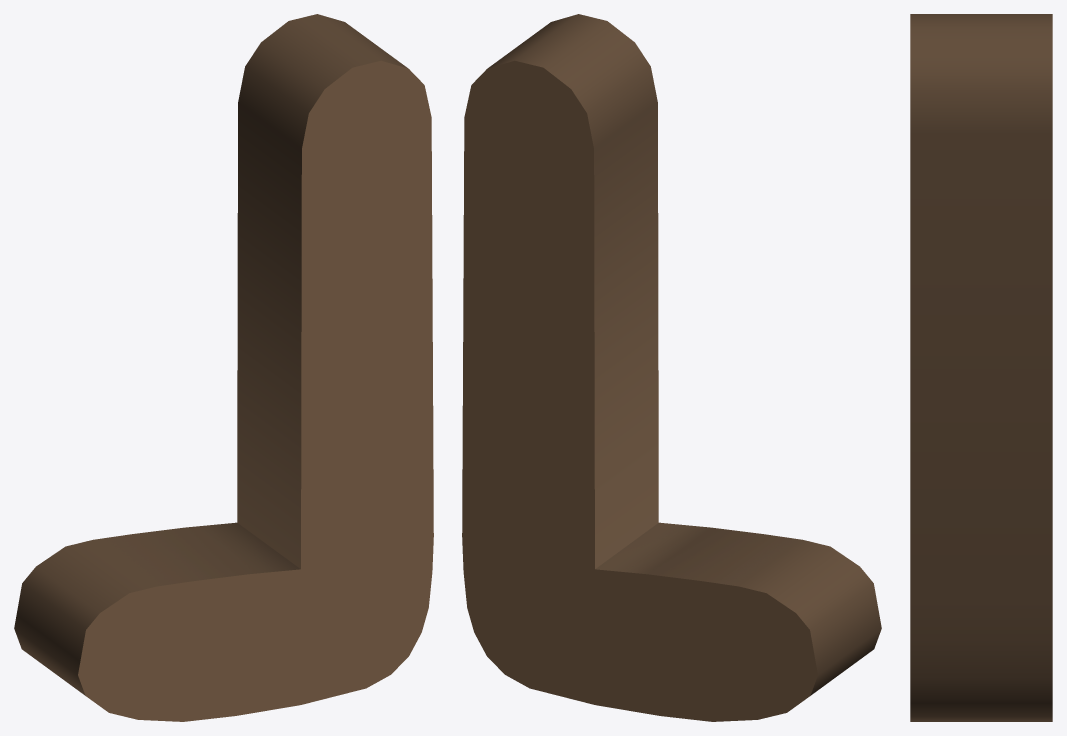
Rendered from TXL0110012.fbx.
3 views of the same model, side by side, from view 1: azimuth 30°, elevation 25°; view 2: azimuth 150°, elevation 25°; view 3: azimuth 270°, elevation 25° (orthographic). The views are drawn at different scales.
Parts seen in each view (by area): view 1: smTXL0110012; view 2: smTXL0110012; view 3: smTXL0110012.
Boxes of the visible parts, x1,y1,x2,y2 form: smTXL0110012: [14, 14, 433, 721]; smTXL0110012: [462, 14, 881, 721]; smTXL0110012: [910, 14, 1052, 721].
Size of the model in its own units: 71.39 by 120 by 22.17.
1 material, 1 textured.
